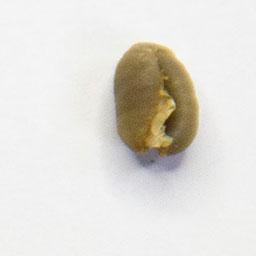peaberry: (111, 40, 204, 160)
